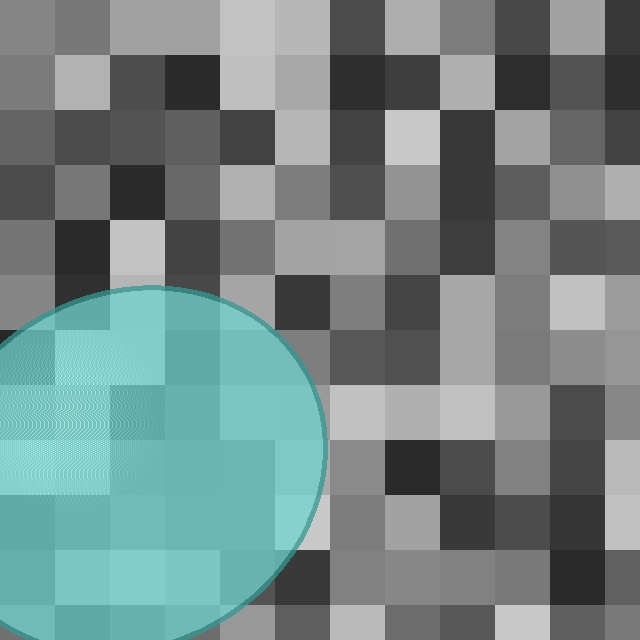lens: (0, 287, 324, 640)
